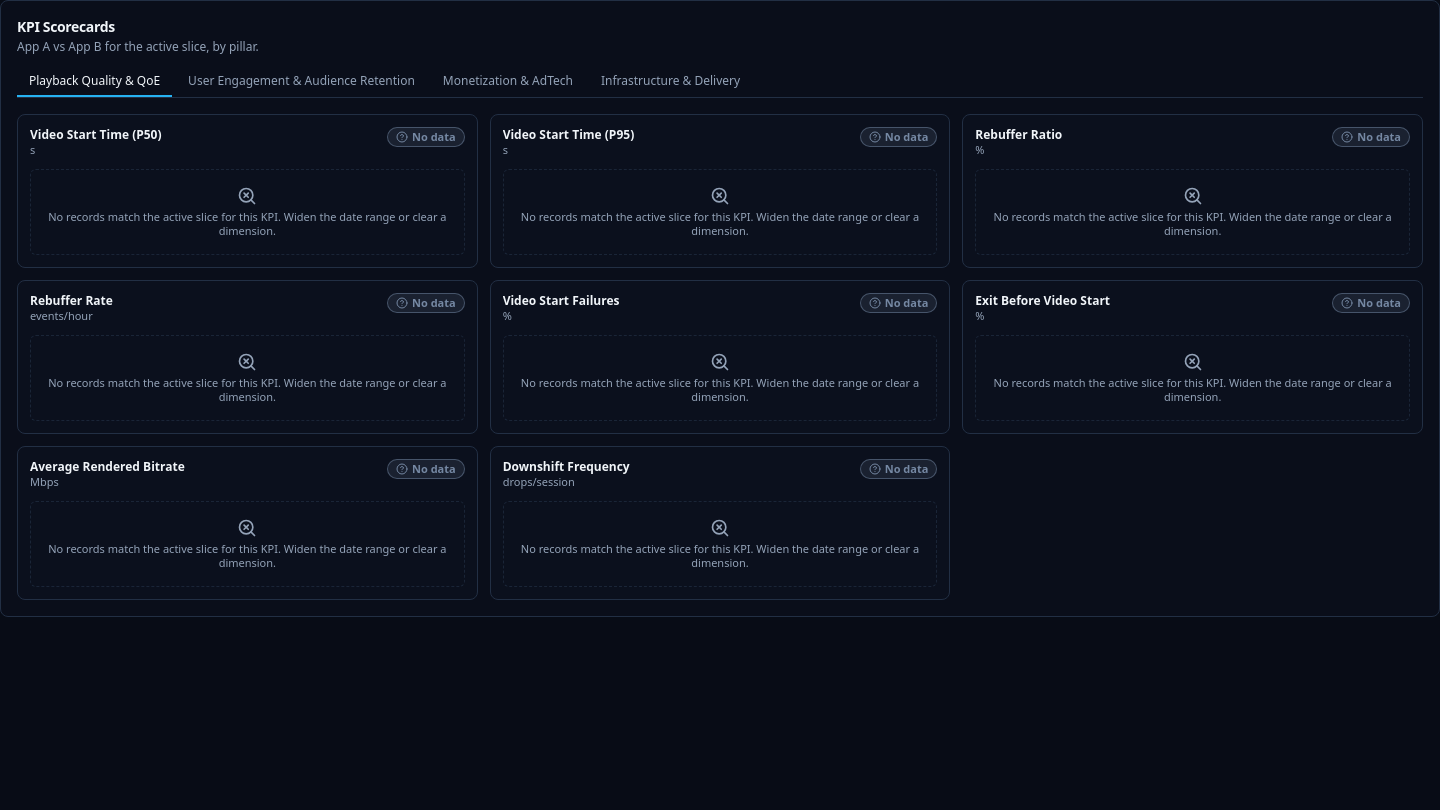
Test: ScorecardGrid › renders a not-aggregable card with a narrow-the-slice hint (Req 23.4, 23.8)
The image size is (1440, 810).
What coordinates should you click on to do the following:
click the tab "User Engagement & Audience Retention"
I would click on:
 (301, 82)
Its box is [176,67,427,97].
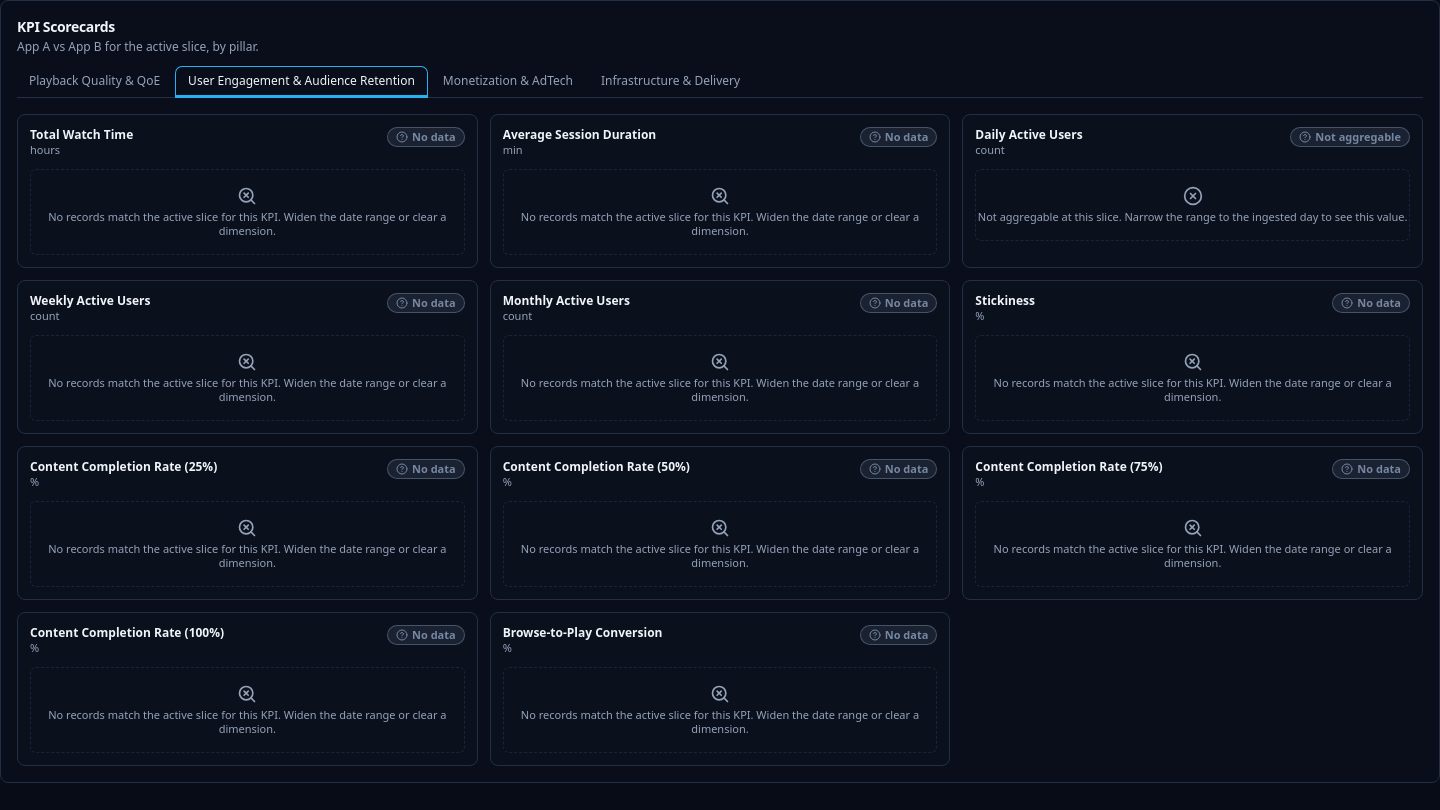
Now the element with test id "scorecard-not-aggregable" shows "Narrow the range", box [978,209,1297,224]
